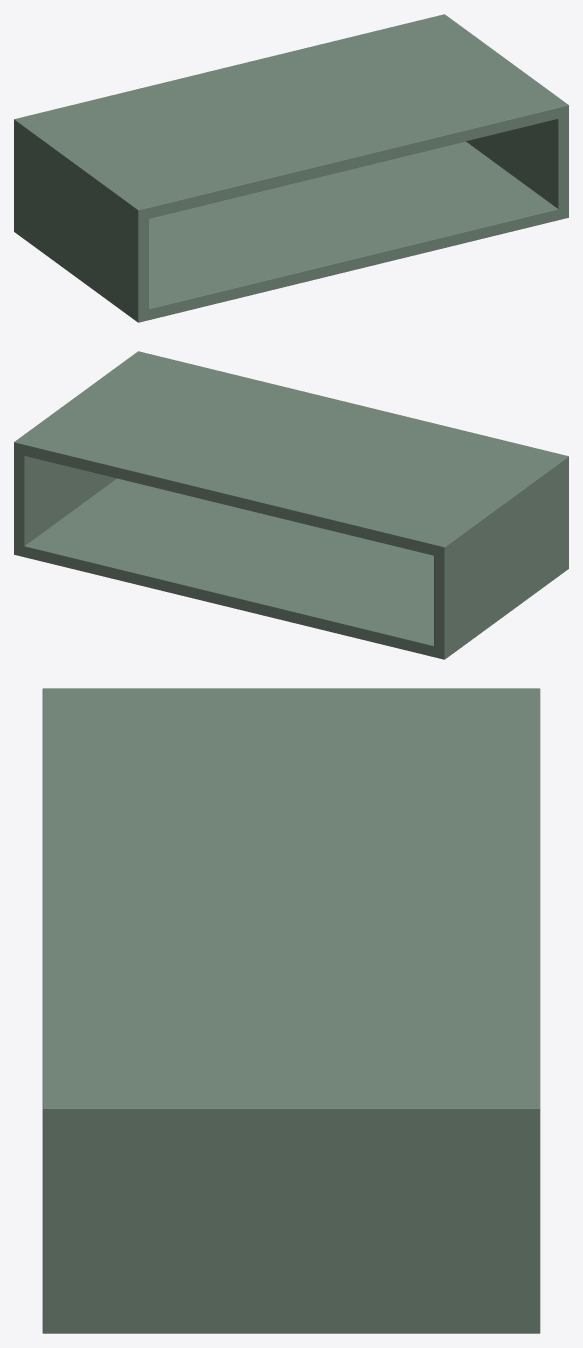
The model's file is MOD_2X05_A_O_VA.glb.
3 renders of one model, top to bottom at view 1: azimuth 30°, elevation 25°; view 2: azimuth 150°, elevation 25°; view 3: azimuth 270°, elevation 25°, orthographic. The views are drawn at different scales.
Size of the model in its own units: 720 by 180 by 360.
